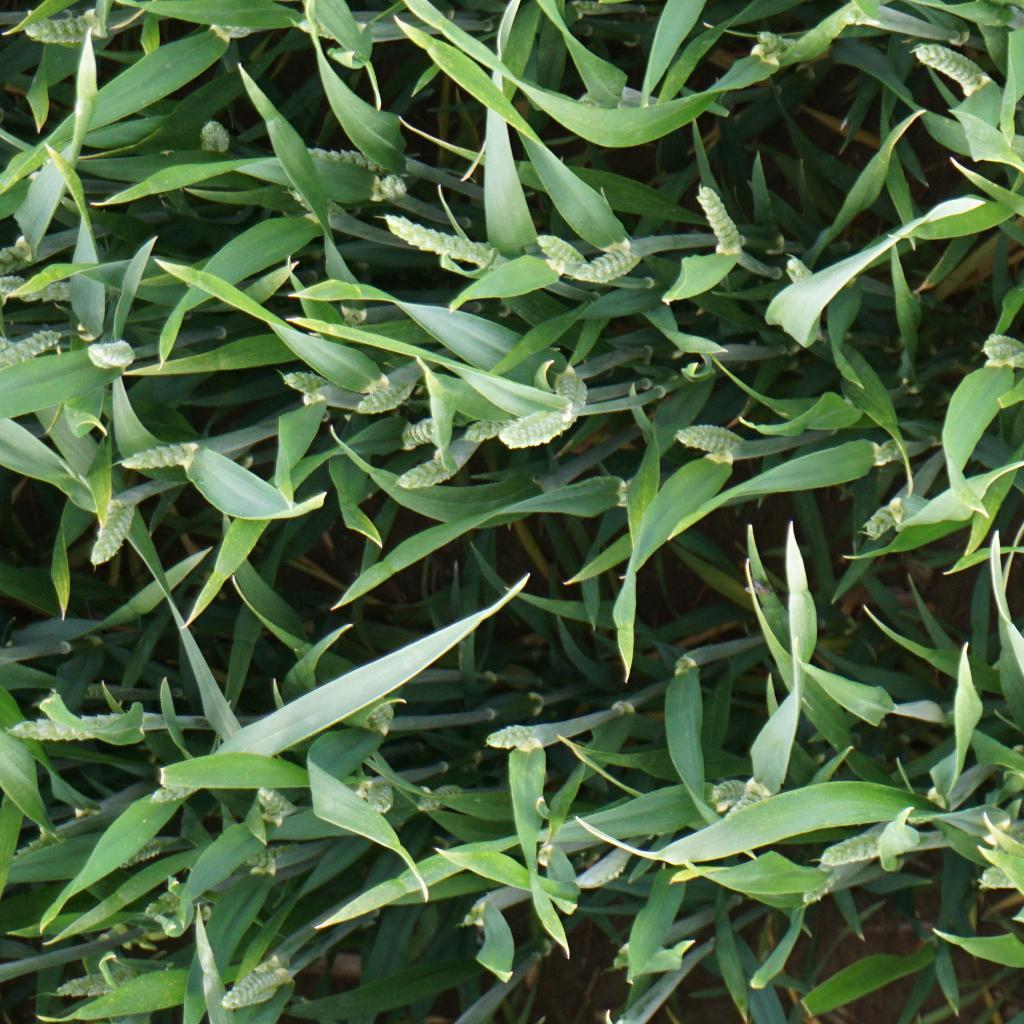0-0: (374, 211, 507, 273), (3, 699, 150, 755), (902, 34, 1003, 101), (806, 813, 909, 876), (498, 400, 595, 457), (214, 951, 295, 1015), (112, 430, 213, 479), (684, 184, 745, 264), (42, 964, 150, 1008), (0, 320, 77, 378), (569, 238, 656, 287), (15, 10, 103, 57), (393, 445, 470, 494), (517, 223, 588, 276), (353, 374, 425, 421), (0, 274, 89, 311), (671, 421, 757, 458), (147, 764, 221, 806), (83, 335, 148, 377), (481, 712, 538, 759), (389, 411, 447, 457), (290, 140, 378, 170), (548, 360, 599, 411), (974, 329, 1024, 380), (750, 24, 812, 64), (726, 770, 776, 819), (860, 494, 912, 541), (803, 848, 843, 908), (114, 832, 177, 869), (702, 775, 763, 813), (230, 840, 300, 872), (0, 235, 56, 273), (191, 116, 236, 163), (413, 781, 471, 816), (975, 808, 1024, 849), (247, 778, 298, 817), (275, 368, 334, 400), (460, 411, 517, 444), (357, 780, 407, 815), (357, 704, 399, 745), (456, 892, 498, 929), (976, 861, 1024, 893), (780, 256, 819, 292), (872, 432, 905, 471), (376, 172, 419, 201)
